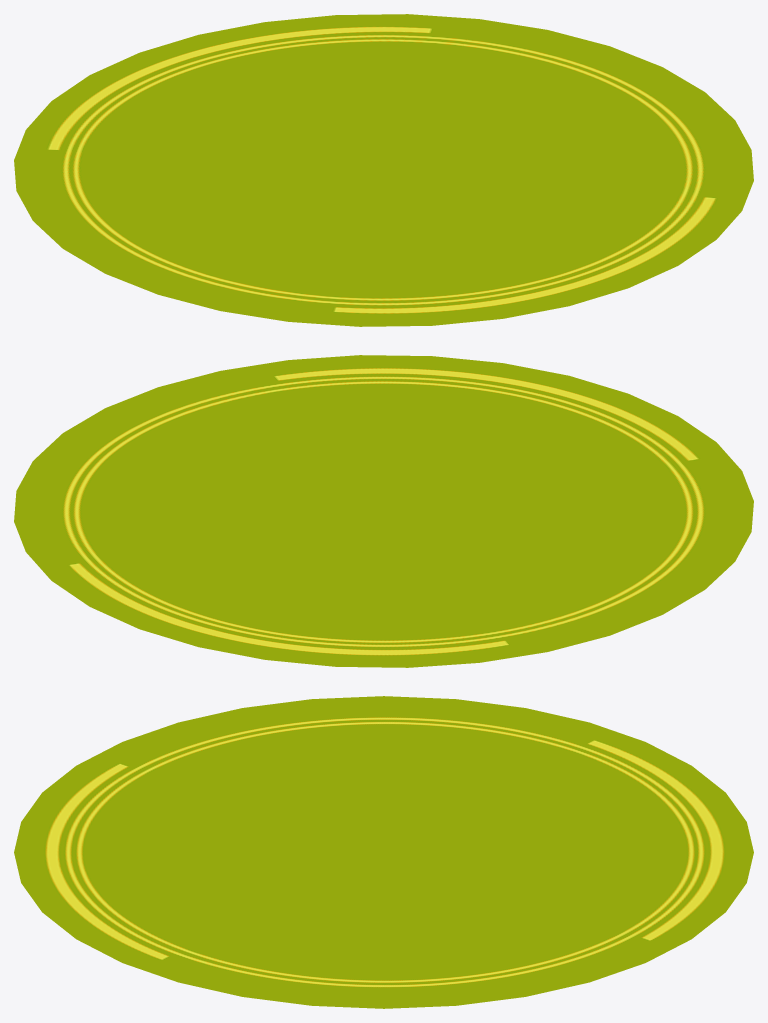
Rendered from fullOrange.glb.
The picture shows the model from 3 angles, top to bottom: view 1: azimuth 30°, elevation 25°; view 2: azimuth 150°, elevation 25°; view 3: azimuth 270°, elevation 25°; orthographic projection.
Parts seen in each view (by area): view 1: Circle; view 2: Circle; view 3: Circle.
Part boxes in pixels (left/top/right/bottom): Circle: left=14, top=14, right=753, bottom=326; Circle: left=14, top=355, right=753, bottom=667; Circle: left=14, top=696, right=753, bottom=1008.
Bounding box in the file's own units: 1.29 × 0 × 1.29.
